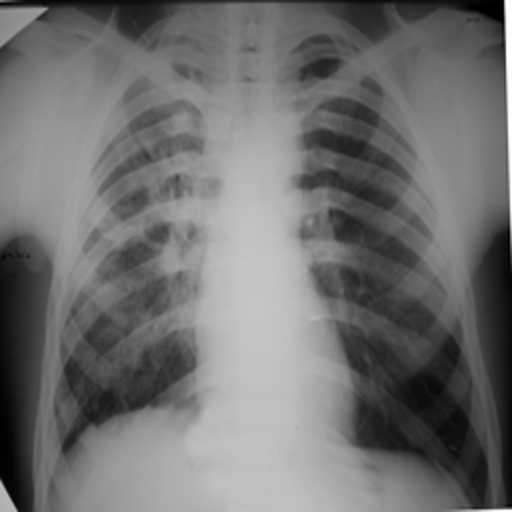TB: (77, 42, 202, 315)
